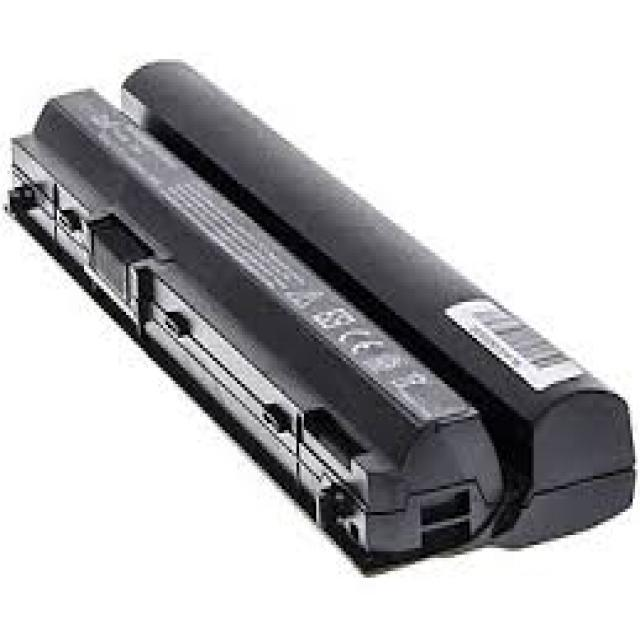battery: (3, 53, 640, 575)
